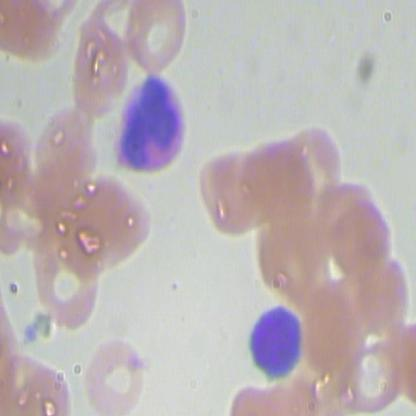RBC: (30, 228, 100, 334), (194, 152, 269, 244), (63, 18, 138, 110), (29, 103, 104, 195), (338, 333, 408, 415), (279, 121, 348, 204), (347, 255, 415, 339), (326, 200, 394, 283), (121, 1, 196, 74), (78, 342, 152, 415)
WBC: (108, 72, 192, 178), (244, 302, 306, 380)
